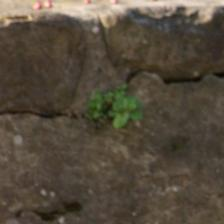Crack: (122, 61, 223, 92), (5, 105, 91, 131)
